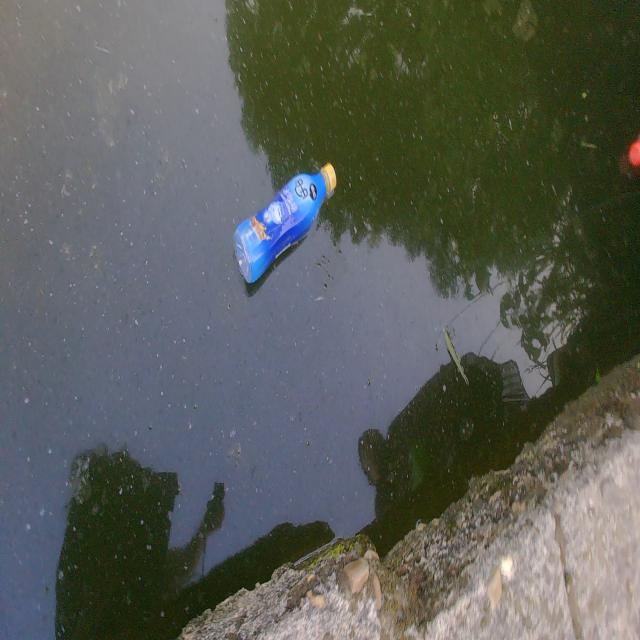Bottle: (230, 157, 340, 287)
